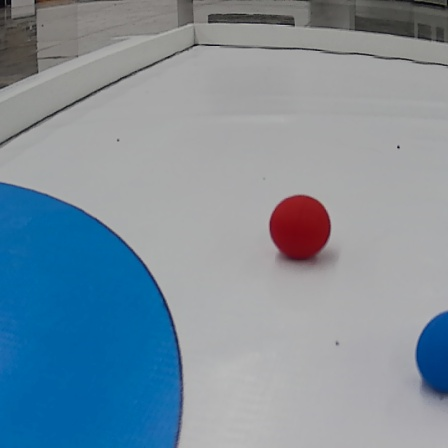blue: (414, 309, 448, 394)
blue_base: (1, 178, 188, 448)
red: (268, 194, 333, 261)
